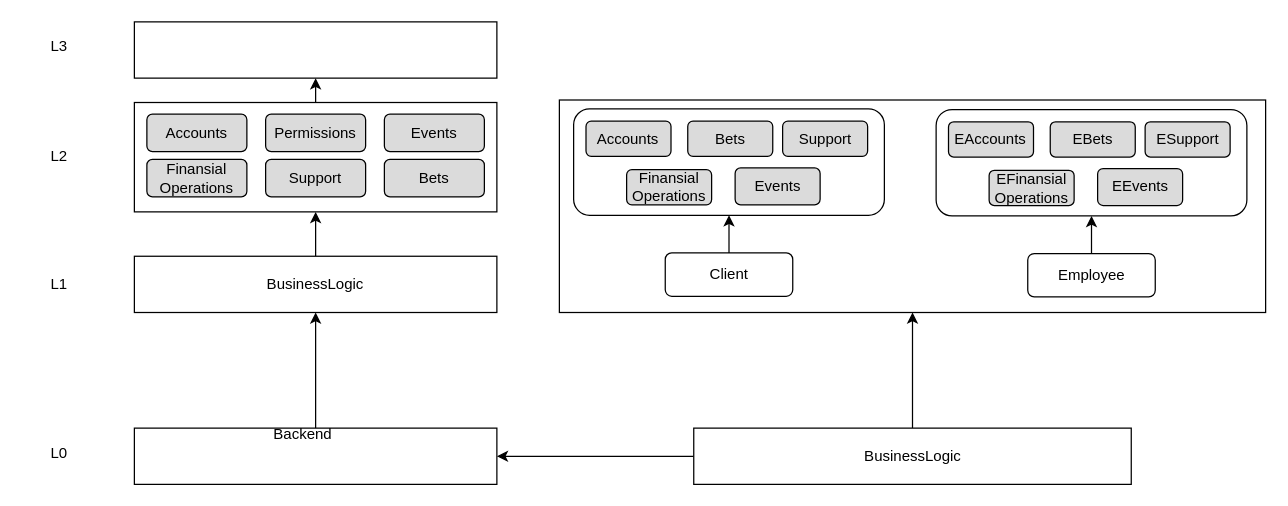
This 1288x506 diagram has some shape labels left out. The shapes that lost their labels are listed below. From the top down, each one's box as (x1, y1, x2, y2) in pixels, then its label:
(133, 21, 497, 78): DataBaseController
(133, 427, 497, 484): RequestHandler
